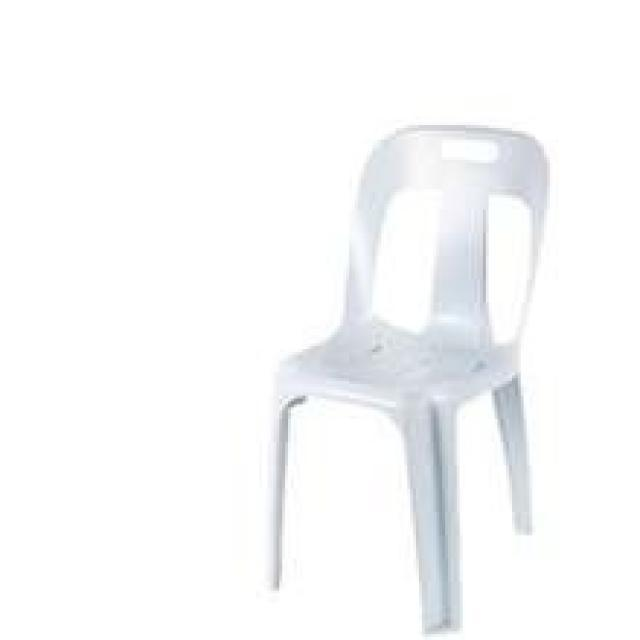chair: (258, 113, 564, 640)
